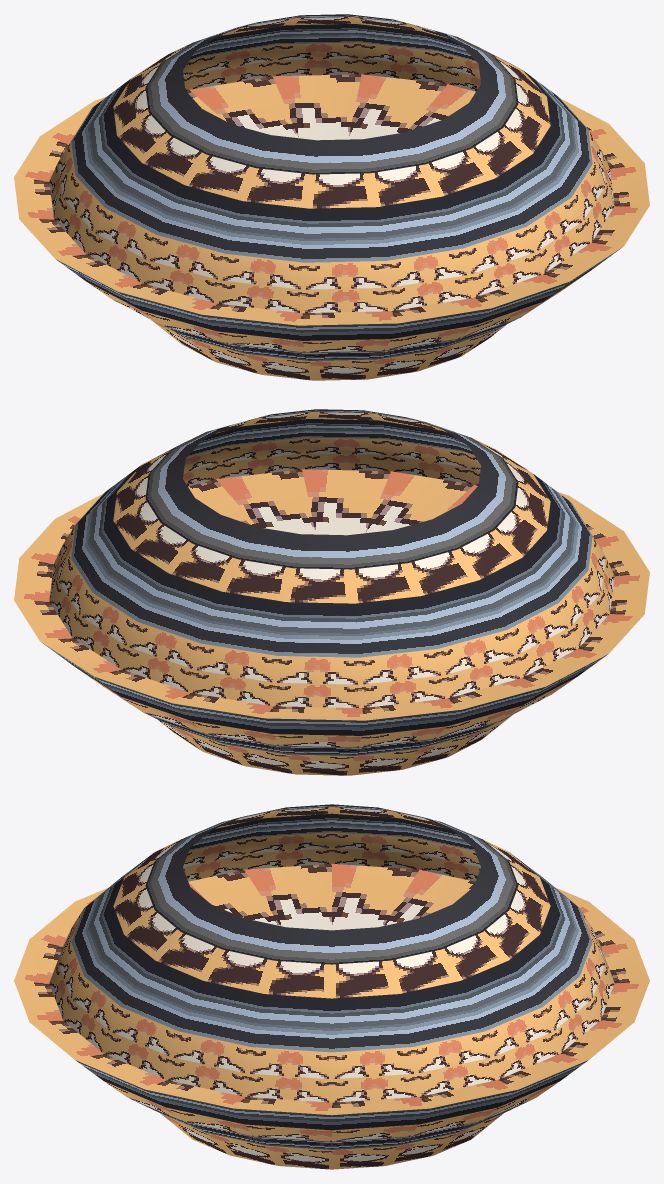
The picture shows the model from 3 angles, top to bottom: view 1: azimuth 30°, elevation 25°; view 2: azimuth 150°, elevation 25°; view 3: azimuth 270°, elevation 25°; orthographic projection.
Parts seen in each view (by area): view 1: uma040; view 2: uma040; view 3: uma040.
Part boxes in pixels (<box>): uma040: <box>14,14,649,380</box>; uma040: <box>14,409,649,775</box>; uma040: <box>14,804,649,1169</box>.
Bounding box in the file's own units: 10.99 × 4.37 × 10.99.
Materials: 3 (3 with a texture image).
